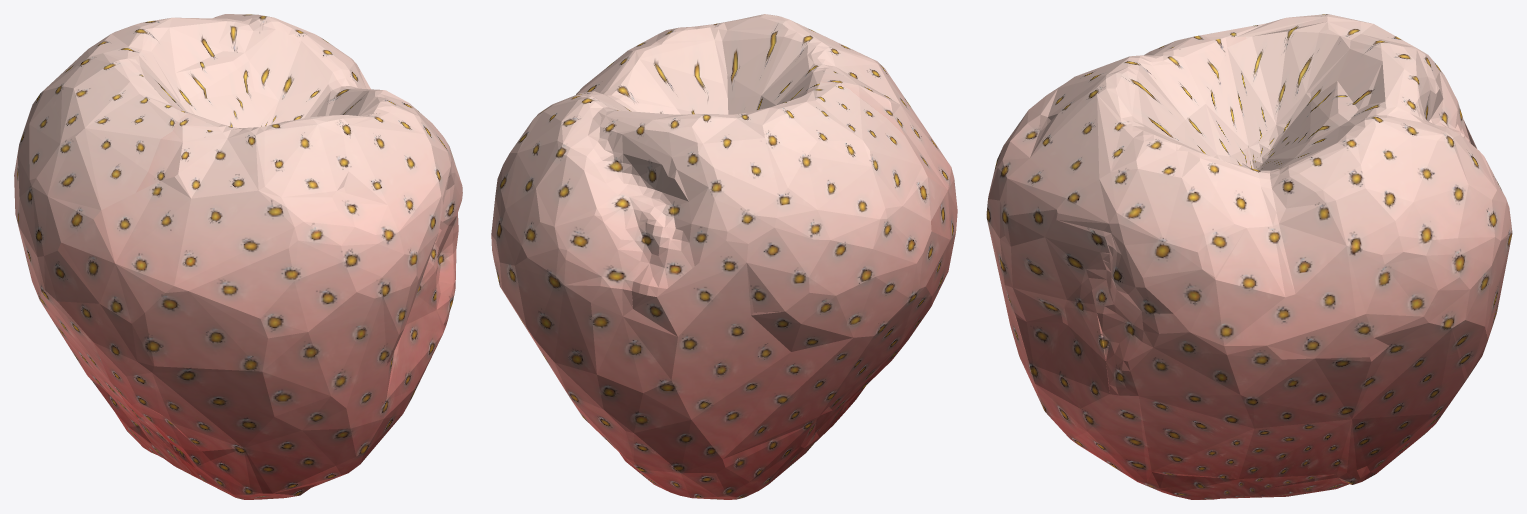
The picture shows the model from 3 angles, left to right: view 1: azimuth 30°, elevation 25°; view 2: azimuth 150°, elevation 25°; view 3: azimuth 270°, elevation 25°; orthographic projection. The views are drawn at different scales.
Parts seen in each view (by area): view 1: _003_Meshed; view 2: _003_Meshed; view 3: _003_Meshed.
Part boxes in pixels (x1,y1,x2,y2): _003_Meshed: [14, 14, 462, 499]; _003_Meshed: [491, 14, 957, 499]; _003_Meshed: [986, 14, 1512, 499].
Bounding box in the file's own units: 0.0971 × 0.1082 × 0.0983.
Materials: 1 (1 with a texture image).
